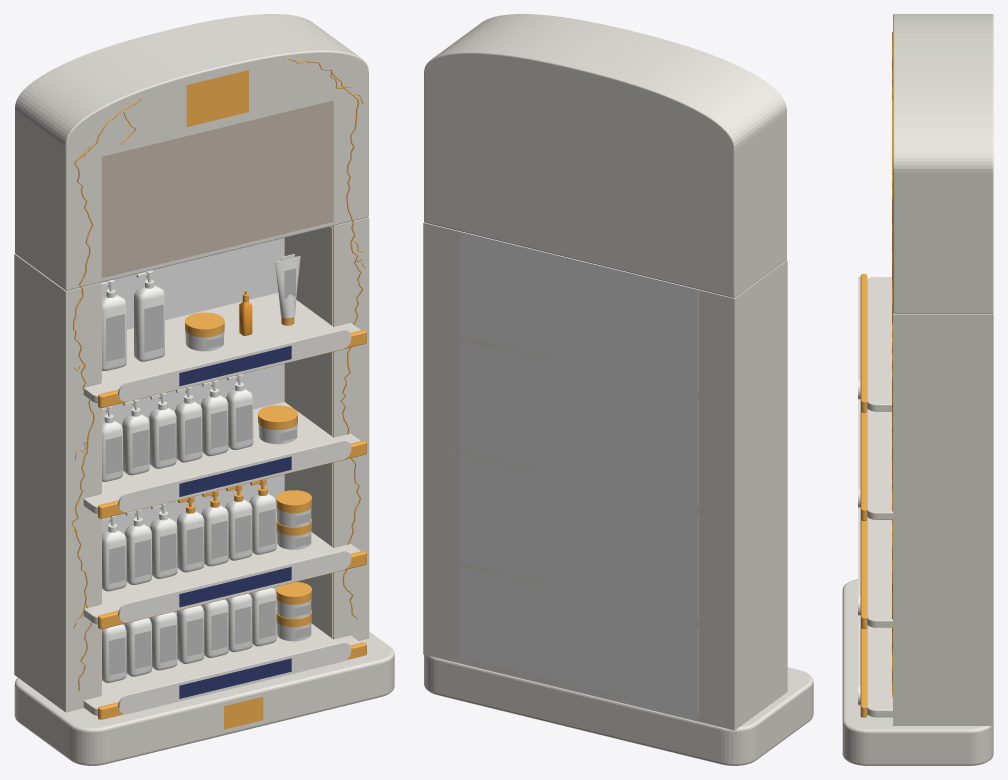
File: final_rack.obj
3 views of the same model, side by side, from view 1: azimuth 30°, elevation 25°; view 2: azimuth 150°, elevation 25°; view 3: azimuth 270°, elevation 25° (orthographic). The views are drawn at different scales.
Parts seen in each view (by area): view 1: Header_Arch_Top, Side_Panel_L, Header_Backlit_Graphic_26x13, Side_Panel_R, Base_Plinth_36x15x4, Back_Panel_Plain_White, Shelf_1, Shelf_2, Shelf_4, Shelf_3, Shelf_1_Talker_26x2, Shelf_3_Talker_26x2 (+42 smaller); view 2: Back_Panel_Plain_White, Header_Arch_Top, Side_Panel_L, Side_Panel_R, Base_Plinth_36x15x4, Shelf_4; view 3: Side_Panel_R, Header_Arch_Top, Base_Plinth_36x15x4, Shelf_1, Shelf_2, Shelf_3, Shelf_4, Shelf_1_Gold_Lip, Shelf_2_Gold_Lip, Shelf_3_Gold_Lip, Shelf_4_Gold_Lip, Vein_Right_Main (+3 smaller).
Part boxes in pixels (x1,y1,x2,y2): Header_Arch_Top: (15,14,368,290); Side_Panel_L: (14,254,101,712); Header_Backlit_Graphic_26x13: (101,100,333,278); Side_Panel_R: (284,217,369,640); Base_Plinth_36x15x4: (14,631,394,765); Back_Panel_Plain_White: (101,238,284,624); Shelf_1: (83,293,360,403); Shelf_2: (83,402,360,513); Shelf_4: (83,606,360,715); Shelf_3: (83,514,360,624); Shelf_1_Talker_26x2: (118,329,351,401); Shelf_3_Talker_26x2: (118,550,351,622); Back_Panel_Plain_White: (460,231,698,721); Header_Arch_Top: (424,14,786,297); Side_Panel_L: (698,260,787,730); Side_Panel_R: (423,222,459,663); Base_Plinth_36x15x4: (424,655,813,765); Shelf_4: (451,655,698,720); Side_Panel_R: (893,313,993,725); Header_Arch_Top: (893,14,993,313); Base_Plinth_36x15x4: (842,579,993,765); Shelf_1: (867,277,891,411); Shelf_2: (867,409,892,519); Shelf_3: (867,517,892,627); Shelf_4: (867,625,892,717); Shelf_1_Gold_Lip: (860,273,867,412); Shelf_2_Gold_Lip: (860,411,867,520); Shelf_3_Gold_Lip: (860,519,867,628); Shelf_4_Gold_Lip: (860,627,867,717); Vein_Right_Main: (892,100,892,697).
Size of the model in its own units: 0.9144 by 1.75 by 0.3818.
